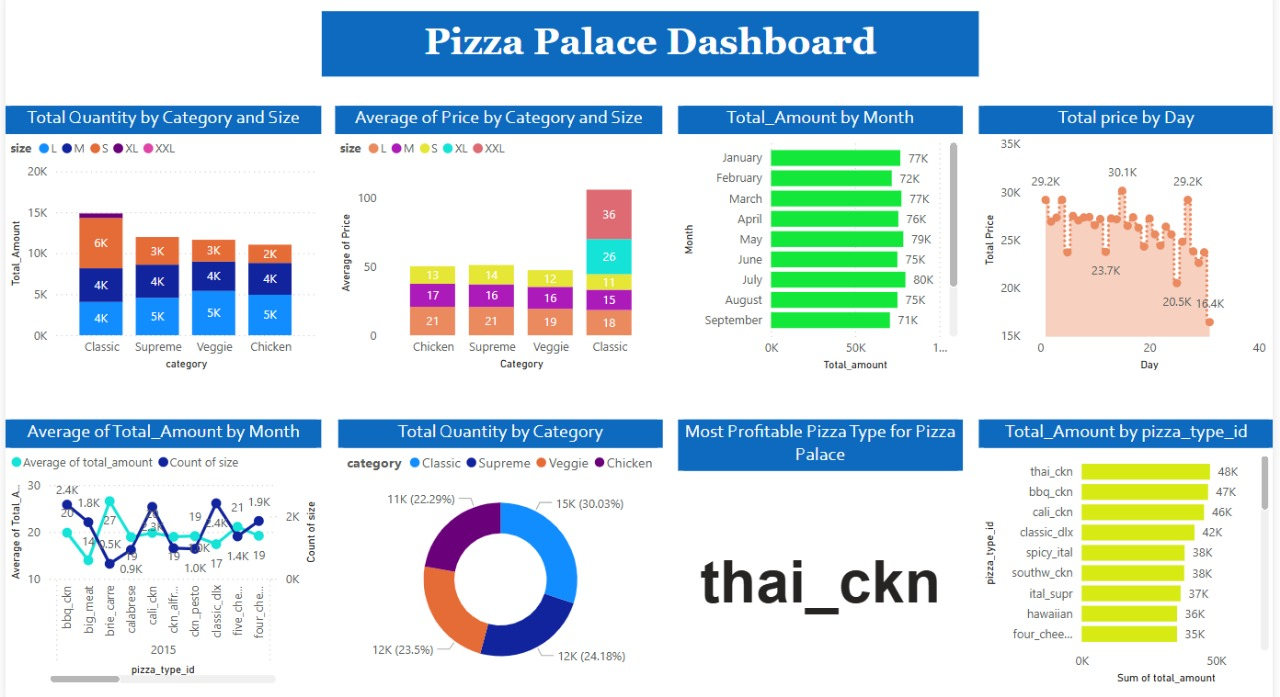

What the dashboard file says about the page in this screenshot:
{"tool":"powerbi","page":{"name":"Page 1","canvas":[1280,720],"ordinal":0},"visuals":[{"type":"textbox","box":[318.8,18.2,663.5,66.3],"z":0},{"type":"columnChart","title":"Total Quantity by Category and Size","fields":{"Category":["Order_Details.category"],"Series":["Order_Details.size"],"Y":["Sum(Order_Details.quantity)"]},"box":[0,114.9,318.8,271.9],"z":1000},{"type":"lineChart","title":"Average of Total_Amount by Month","fields":{"Y":["Avg(Order_Details.total_amount)"],"Category":["Order_Details.date.Variation.Date Hierarchy.Year","Order_Details.pizza_type_id"],"Y2":["CountNonNull(Order_Details.size)"]},"box":[0,431.8,318.8,271.9],"z":2000},{"type":"columnChart","title":"Average of Price by Category and Size","fields":{"Category":["Order_Details.category"],"Y":["Avg(Order_Details.price)"],"Series":["Order_Details.size"]},"box":[333.2,114.9,330.3,271.9],"z":3000},{"type":"barChart","title":"Total_Amount by Month","fields":{"Category":["Order_Details.date.Variation.Date Hierarchy.Month"],"Y":["Sum(Order_Details.total_amount)"]},"box":[678.8,114.9,287.2,271.9],"z":4000},{"type":"areaChart","title":"Total price by Day","fields":{"Category":["Order_Details.date.Variation.Date Hierarchy.Day"],"Y":["Sum(Order_Details.price)"]},"box":[982.3,114.9,297.7,271.9],"z":5000},{"type":"donutChart","title":"Total Quantity by Category","fields":{"Y":["Sum(Order_Details.quantity)"],"Category":["Order_Details.category"]},"box":[336,431.8,327.4,271.9],"z":6000},{"type":"card","title":"Most Profitable Pizza Type for Pizza Palace","fields":{"Values":["Min(Order_Details.pizza_type_id)"]},"box":[678.8,431.8,287.2,271.9],"z":7000},{"type":"barChart","title":"Total_Amount by pizza_type_id","fields":{"Category":["Order_Details.pizza_type_id"],"Y":["Sum(Order_Details.total_amount)"]},"box":[982.3,431.8,297.7,271.9],"z":8000}]}

Visuals, with their boxes on the page's 1280x720 design canvas (x1, y1, x2, y2). These are canvas units, not pixel positions in the 1280x697 screenshot, which may show the page scaled, cropped or inside an application window:
textbox: left=319, top=18, right=982, bottom=84
"Total Quantity by Category and Size" columnChart: left=0, top=115, right=319, bottom=387
"Average of Total_Amount by Month" lineChart: left=0, top=432, right=319, bottom=704
"Average of Price by Category and Size" columnChart: left=333, top=115, right=664, bottom=387
"Total_Amount by Month" barChart: left=679, top=115, right=966, bottom=387
"Total price by Day" areaChart: left=982, top=115, right=1280, bottom=387
"Total Quantity by Category" donutChart: left=336, top=432, right=663, bottom=704
"Most Profitable Pizza Type for Pizza Palace" card: left=679, top=432, right=966, bottom=704
"Total_Amount by pizza_type_id" barChart: left=982, top=432, right=1280, bottom=704
